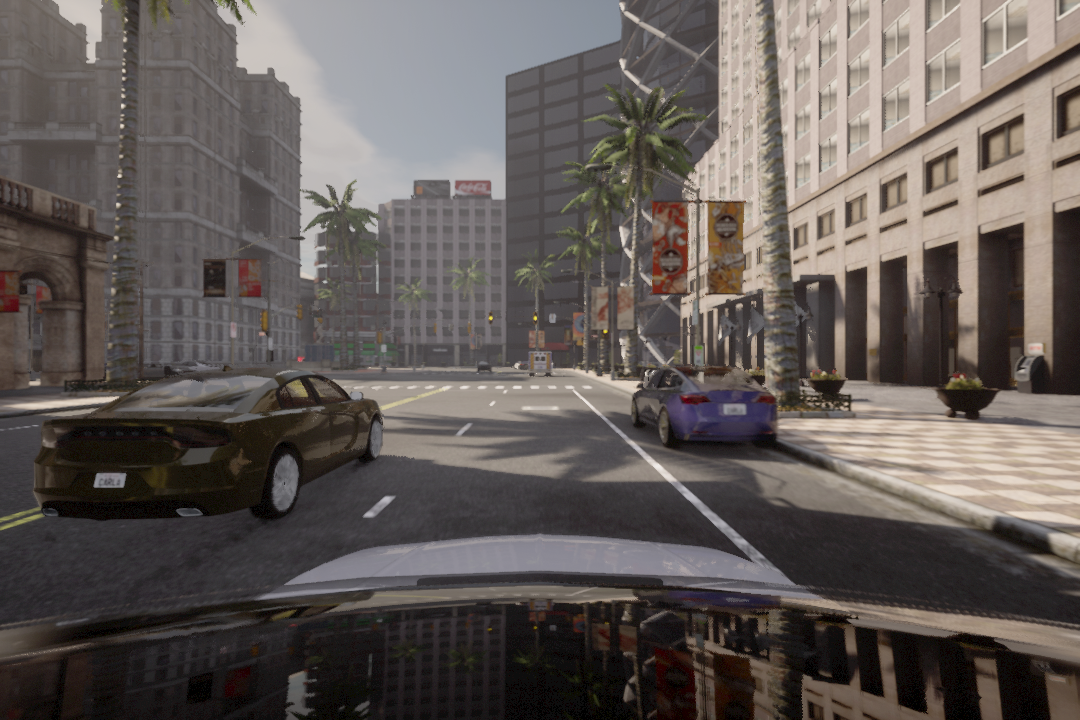TrafficSign: (341, 382, 594, 392)
